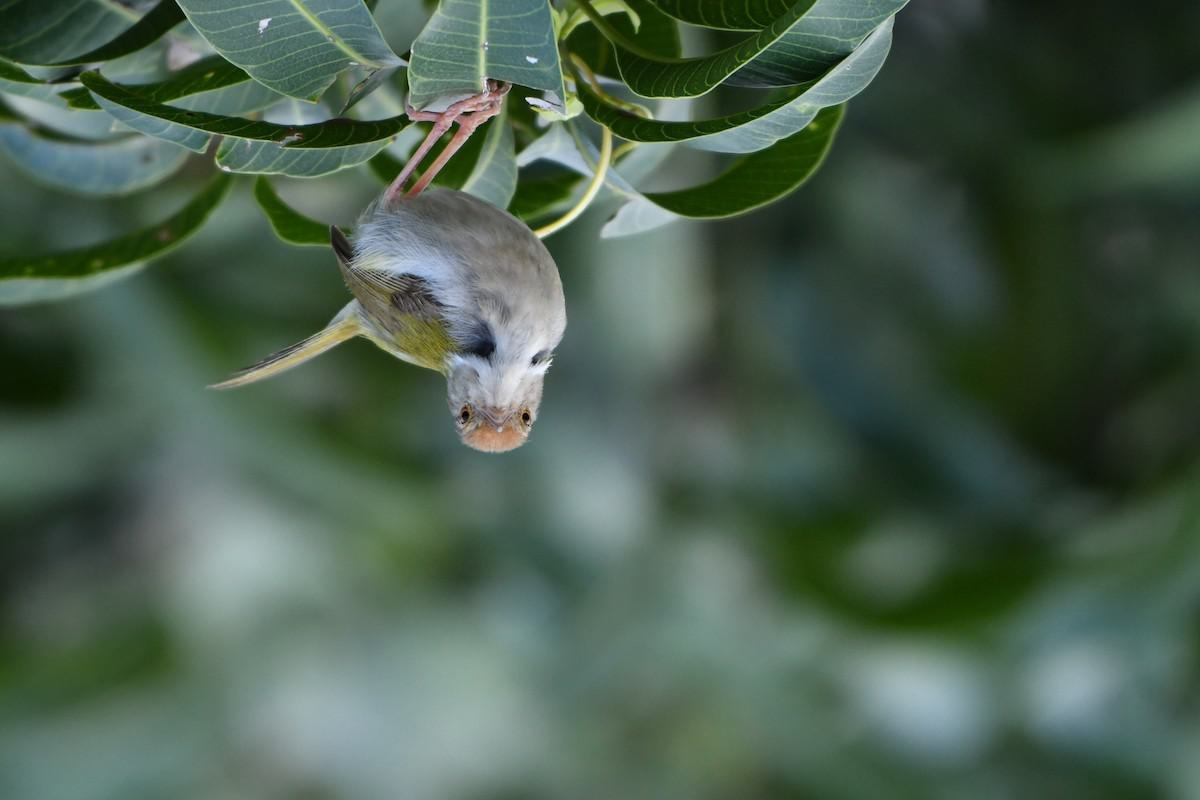tailorbird: (251, 138, 628, 490)
